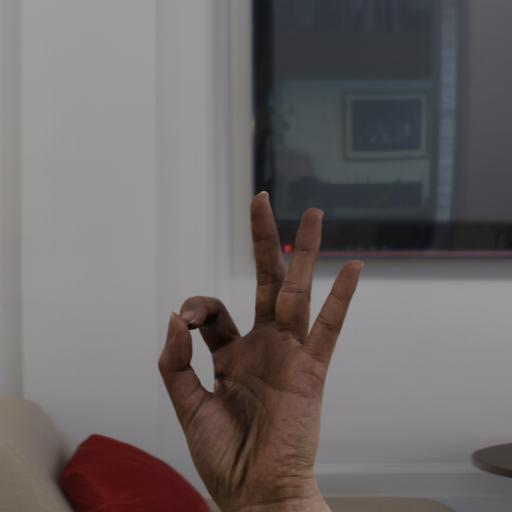F: (156, 183, 369, 512)
